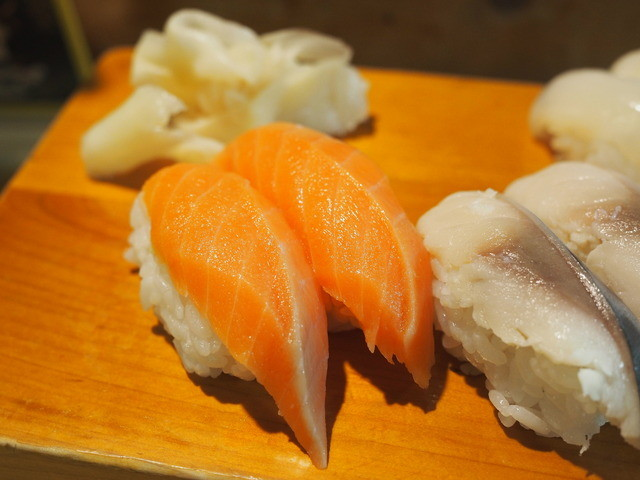salmon: (130, 163, 329, 465)
